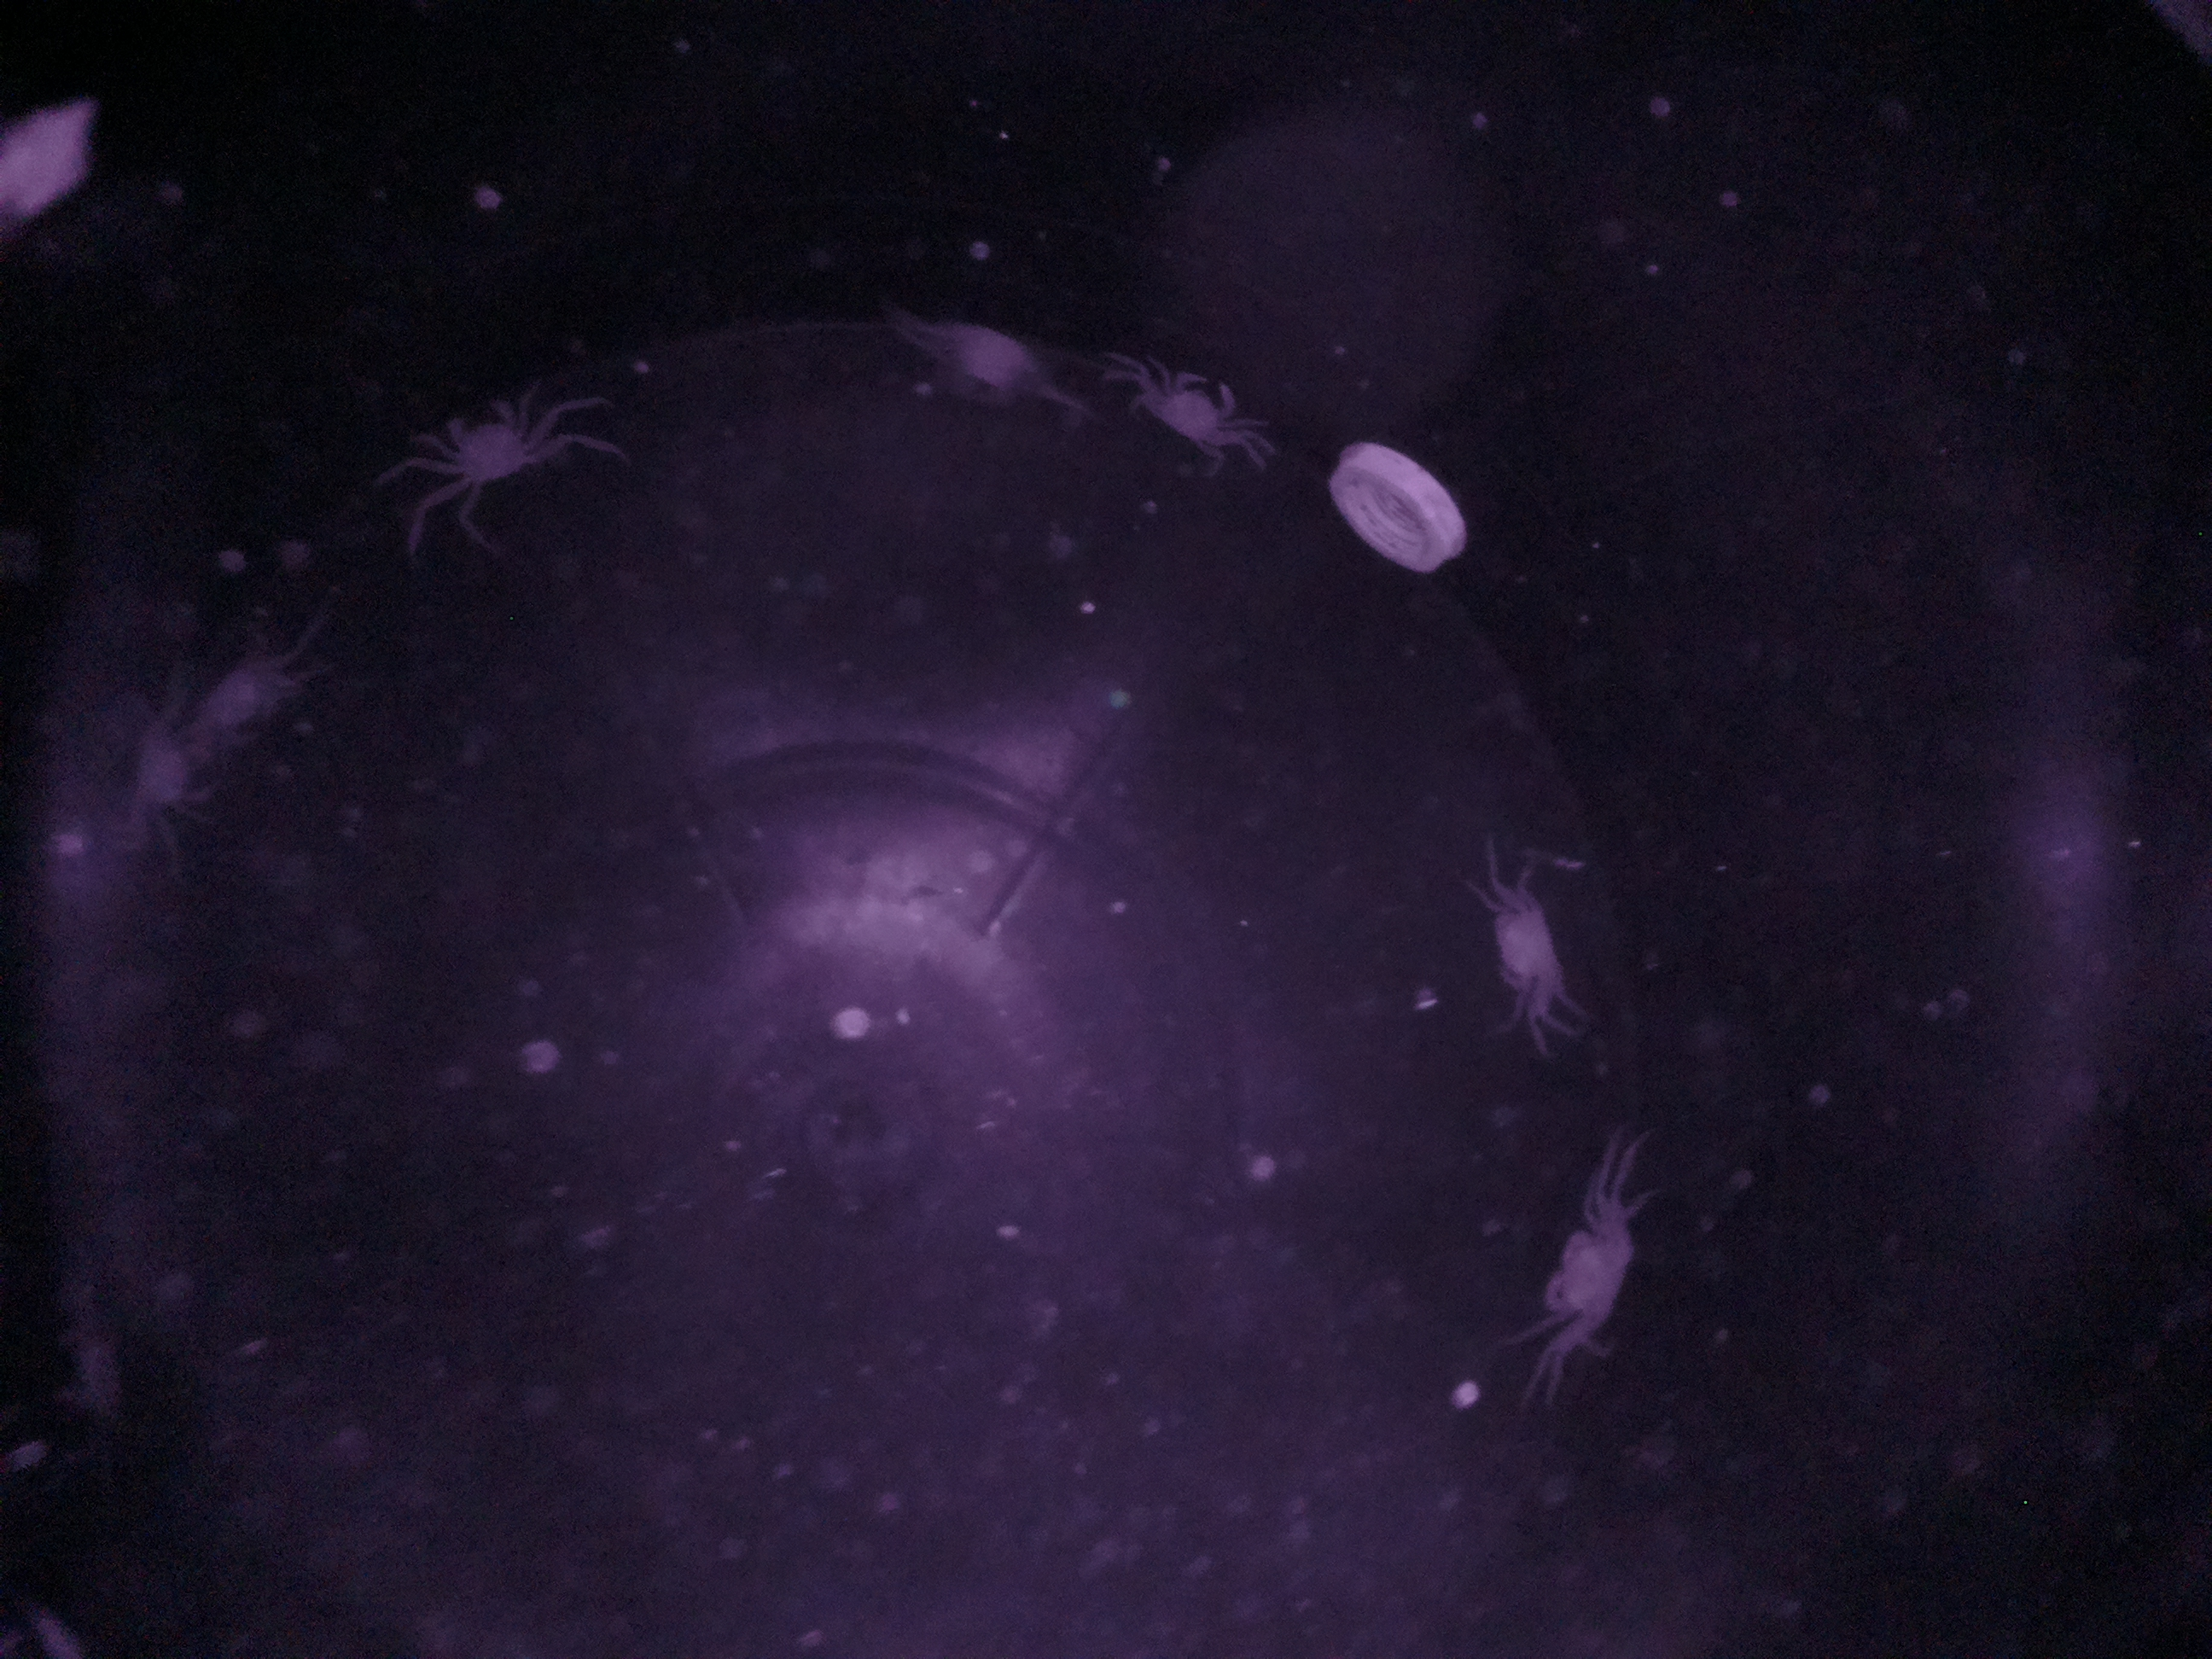Crab: (1447, 875, 1618, 1026), (1514, 1202, 1660, 1370), (428, 371, 543, 511), (1139, 354, 1247, 471)
